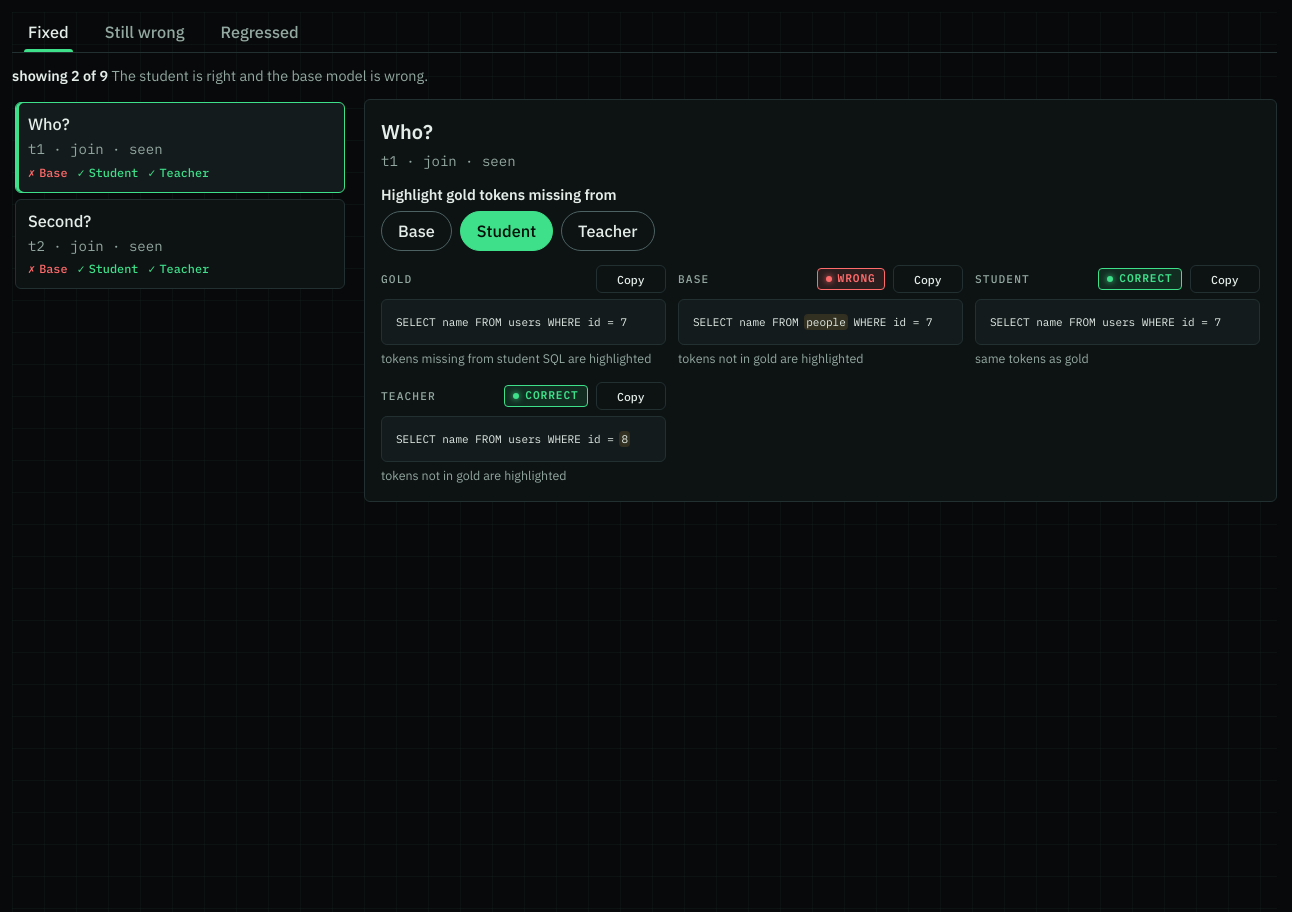
Test case: ExampleBrowser: master list and side-by-side › says so when the clipboard is unavailable
Click the button with aria-label "Copy to clipboard".
click(631, 279)  # box [596,265,666,293]
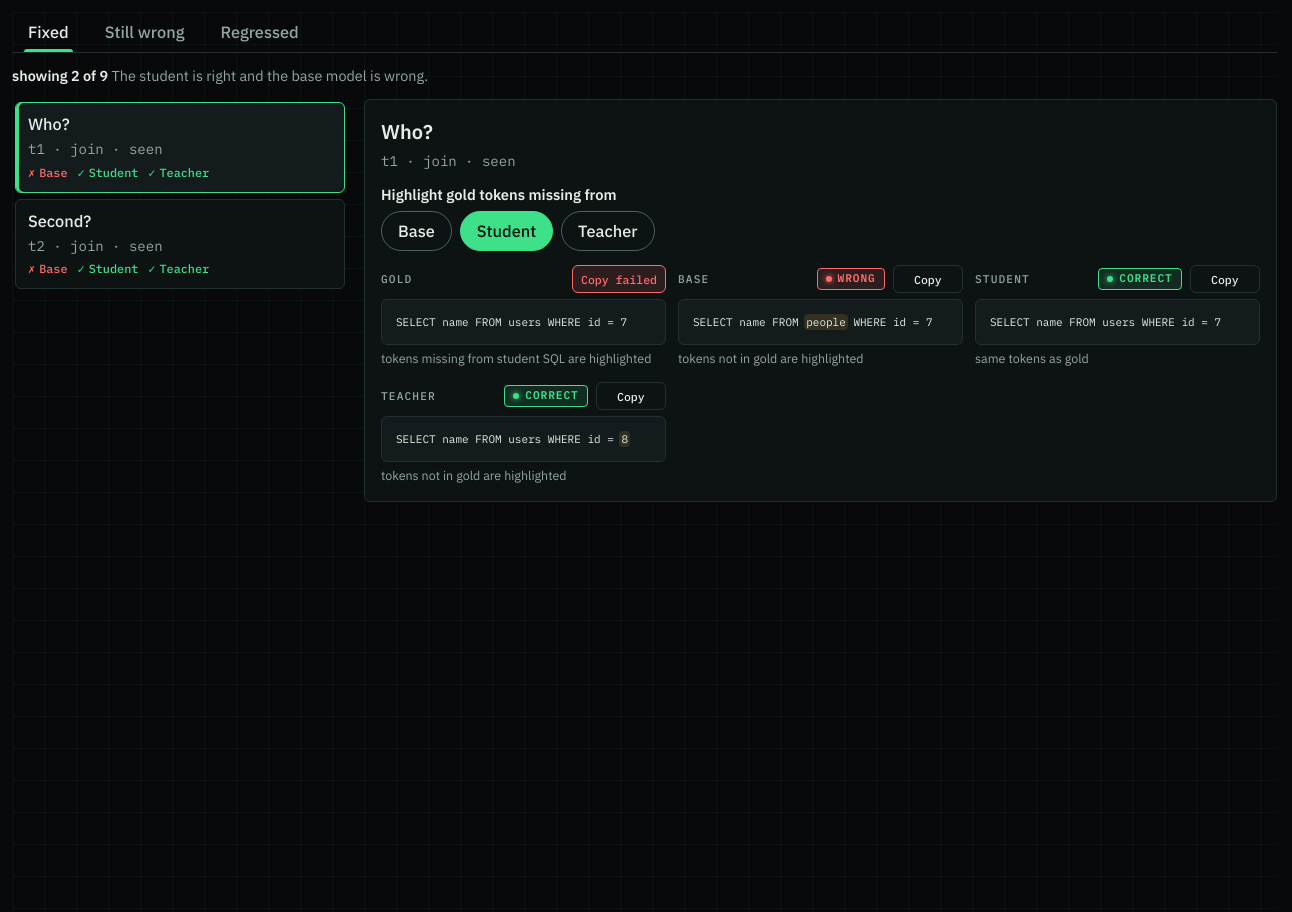
Now the button "Copy failed" is shown, box [572,265,666,293]
